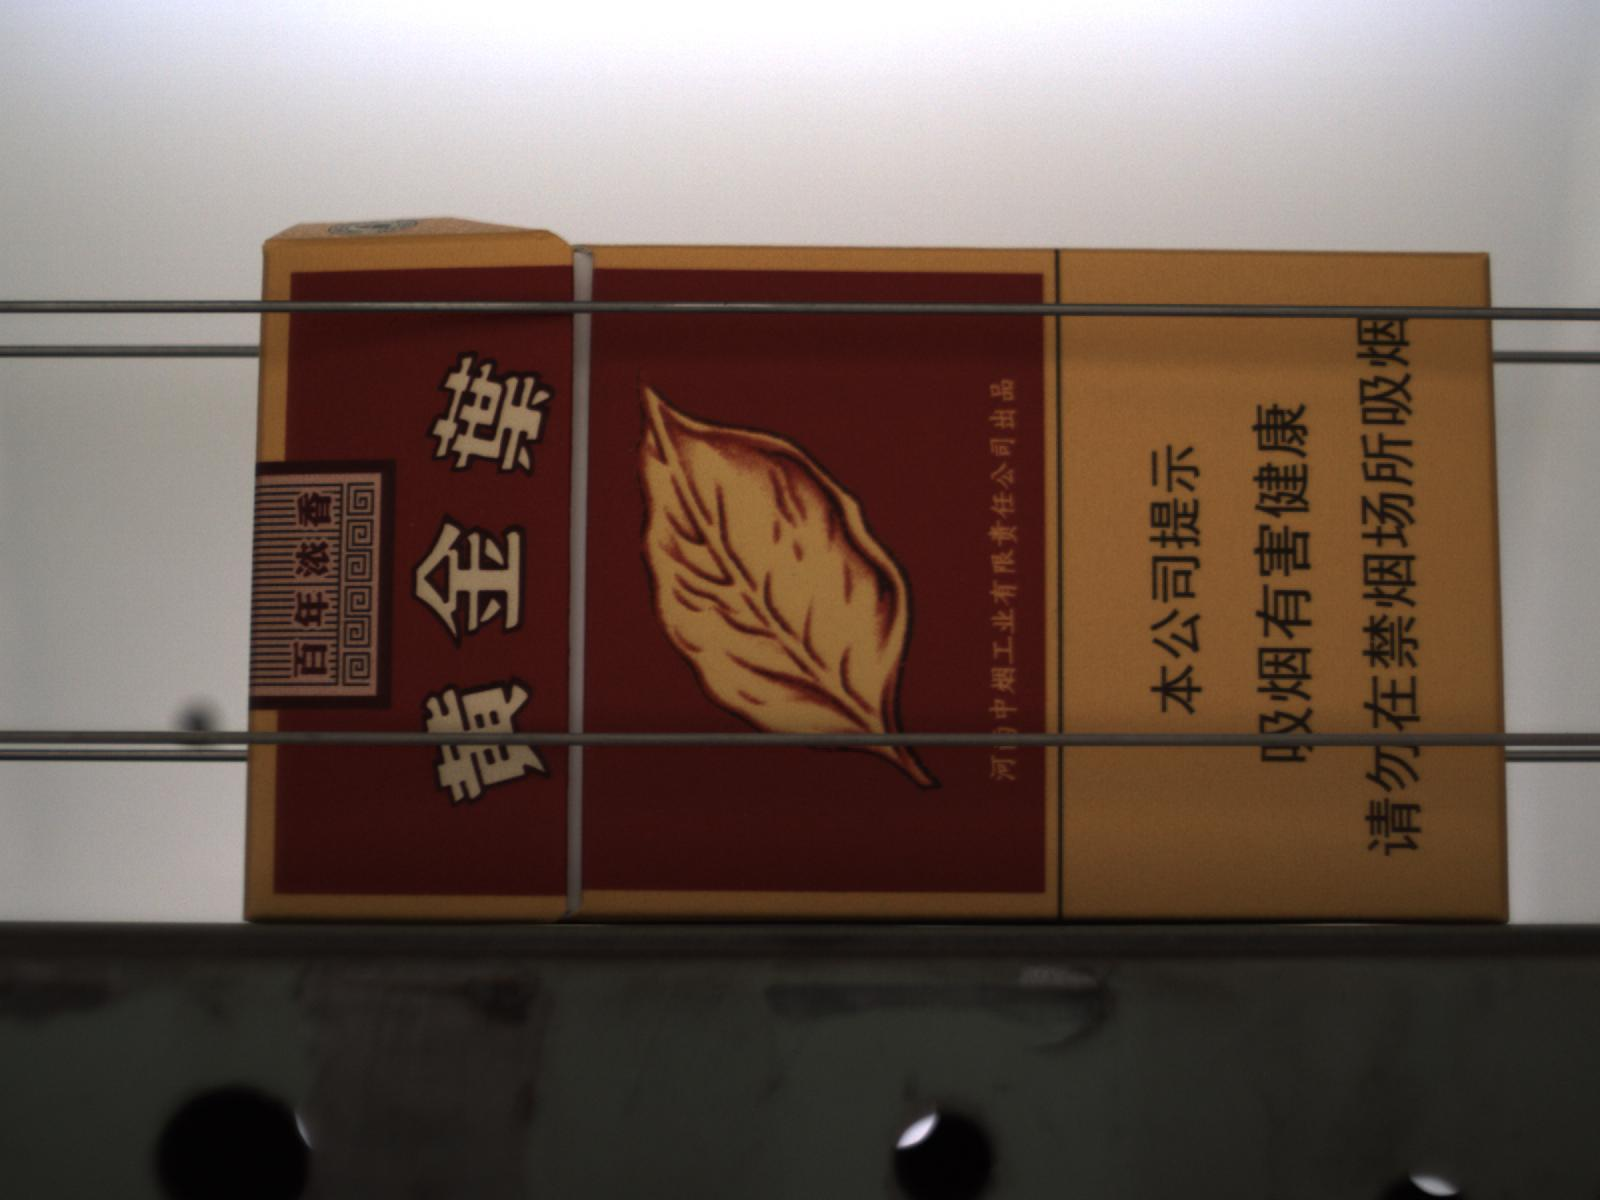headUpwarp_upper_01: (263, 215, 570, 250)
